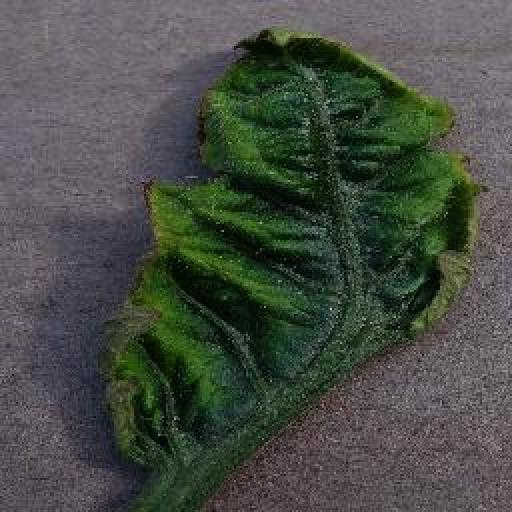disease_tomato: (106, 25, 488, 475)
